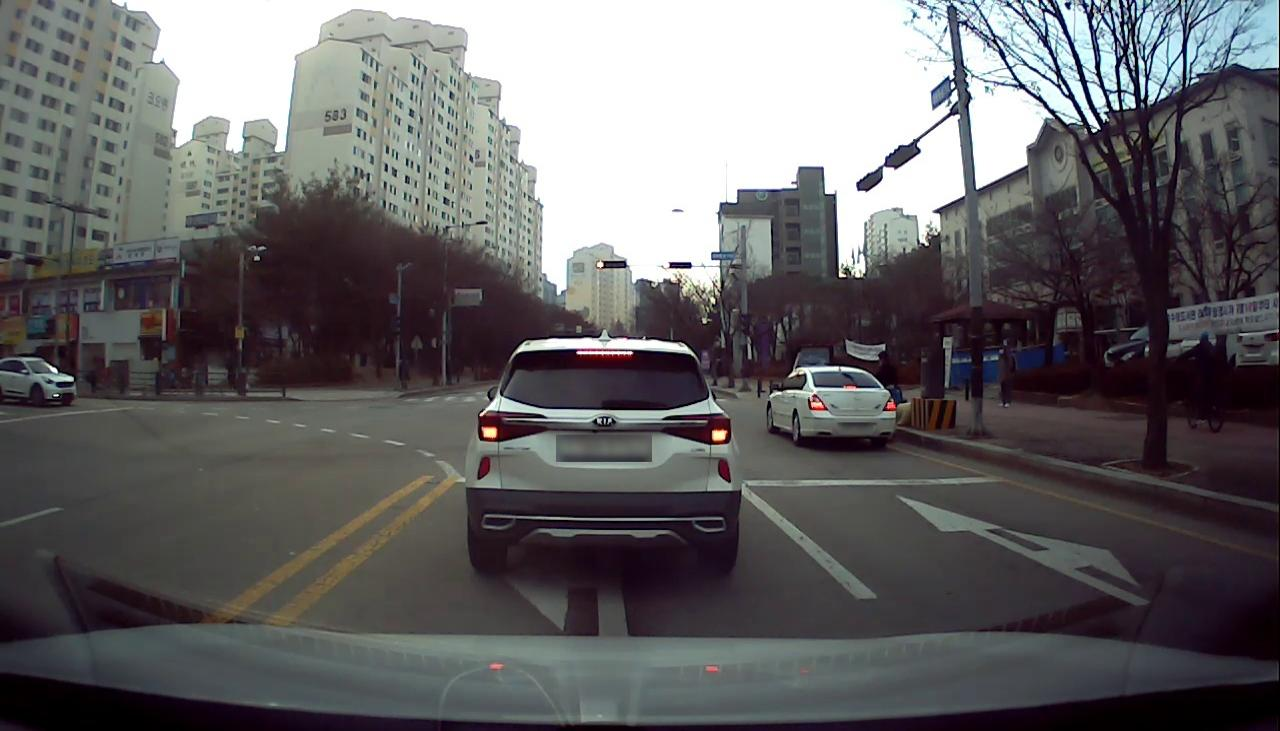Red Light: (596, 260, 605, 269), (661, 261, 670, 270)
